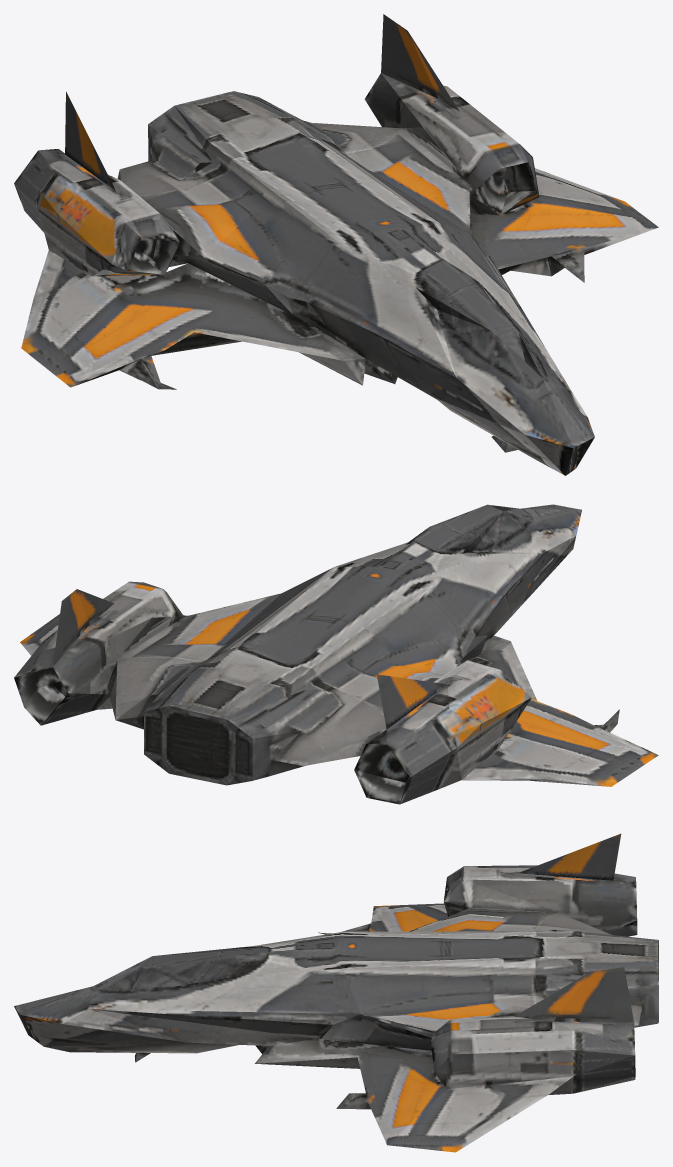
The model's file is hard-500.glb.
The picture shows the model from 3 angles, top to bottom: view 1: azimuth 30°, elevation 25°; view 2: azimuth 150°, elevation 25°; view 3: azimuth 270°, elevation 25°; orthographic projection. The views are drawn at different scales.
Visible parts, largest first — view 1: Low; view 2: Low; view 3: Low.
Boxes of the visible parts, x1=… form: Low: x1=14, y1=14, x2=658, y2=475; Low: x1=14, y1=504, x2=658, y2=804; Low: x1=14, y1=833, x2=658, y2=1152.
Bounding box in the file's own units: 0.8935 × 0.2676 × 0.9764.
Materials: 1 (1 with a texture image).
